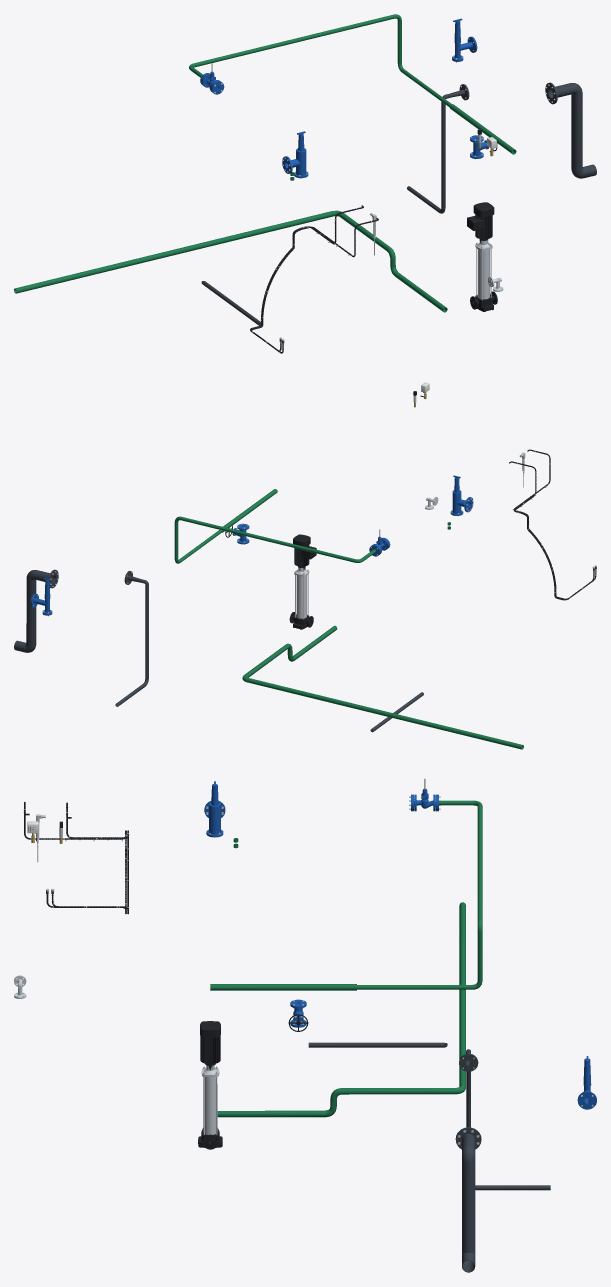
File: s4000-6-Bncl97Go.glb
3 renders of one model, top to bottom at view 1: azimuth 30°, elevation 25°; view 2: azimuth 150°, elevation 25°; view 3: azimuth 270°, elevation 25°, orthographic. The views are drawn at different scales.
Visible parts, largest first — view 1: suction_common / green, bdv_water_drain / dark, to_direct / green, bottom_to_bdv / dark, pump_1 CAD solid 15, safety_2 / blue, pump_1 CAD solid 2, wiring_low_level_1 / black, flash_steam_common / blue, wiring_lp400 / black, pump_delivery / green; view 2: suction_common / green, to_direct / green, bdv_water_drain / dark, bottom_to_bdv / dark, pump_1 CAD solid 15, safety_2 / blue; view 3: suction_common / green, bdv_water_drain / dark, to_direct / green, bottom_to_bdv / dark, pump_delivery / green, pump_1 CAD solid 15, bottom_piping / dark, pump_1 CAD solid 2, safety_2 / blue.
Part boxes in pixels (box(x1,y1,x2,y2)): suction_common / green: box(14, 210, 447, 312); bdv_water_drain / dark: box(545, 82, 596, 178); to_direct / green: box(189, 14, 451, 106); bottom_to_bdv / dark: box(407, 84, 469, 213); pump_1 CAD solid 15: box(467, 202, 494, 239); safety_2 / blue: box(282, 131, 308, 178); pump_1 CAD solid 2: box(478, 249, 489, 299); wiring_low_level_1 / black: box(251, 218, 378, 353); flash_steam_common / blue: box(452, 18, 477, 61); wiring_lp400 / black: box(250, 205, 363, 351); pump_delivery / green: box(449, 104, 516, 154); suction_common / green: box(242, 625, 523, 749); to_direct / green: box(174, 516, 376, 563); bdv_water_drain / dark: box(14, 569, 58, 652); bottom_to_bdv / dark: box(115, 571, 148, 706); pump_1 CAD solid 15: box(293, 534, 316, 567); safety_2 / blue: box(450, 475, 473, 515); suction_common / green: box(217, 902, 465, 1117); bdv_water_drain / dark: box(455, 1127, 481, 1272); to_direct / green: box(357, 800, 482, 989); bottom_to_bdv / dark: box(459, 1049, 550, 1190); pump_delivery / green: box(210, 984, 356, 990); pump_1 CAD solid 15: box(200, 1021, 220, 1064); bottom_piping / dark: box(308, 1042, 447, 1047); pump_1 CAD solid 2: box(203, 1077, 217, 1134); safety_2 / blue: box(204, 781, 225, 837).
Bounding box in the file's own units: 6.75 × 2.73 × 4.97.
